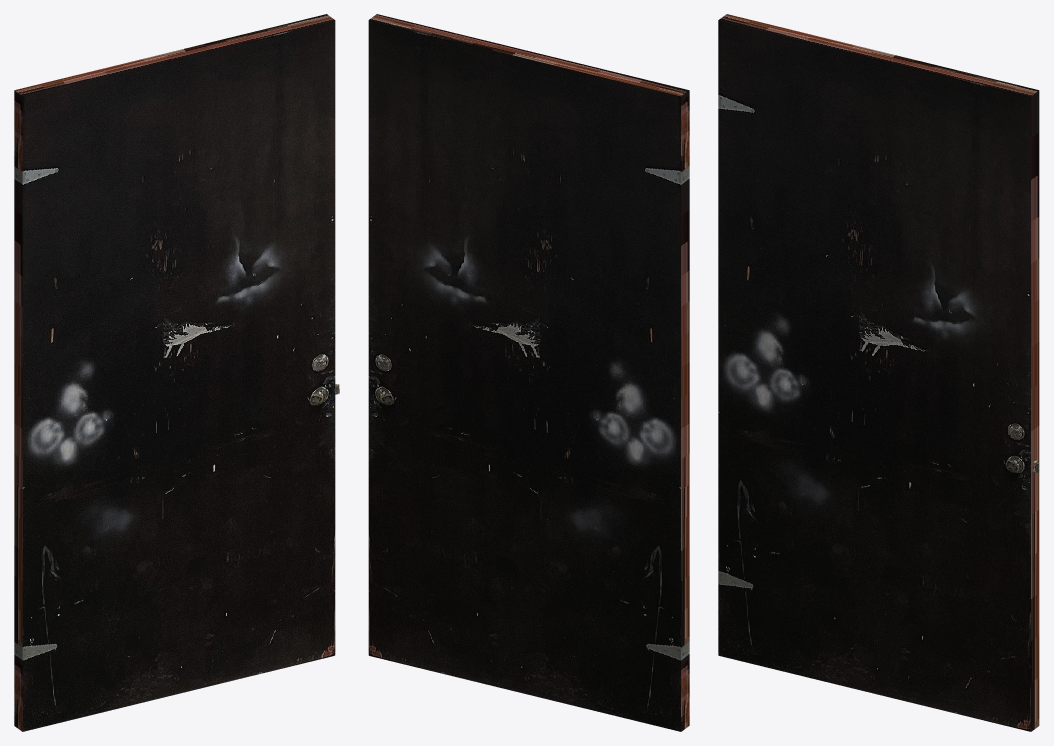
Rendered from door.glb.
3 renders of one model, left to right at view 1: azimuth 30°, elevation 25°; view 2: azimuth 150°, elevation 25°; view 3: azimuth 330°, elevation 25°, orthographic.
Parts seen in each view (by area): view 1: door; view 2: door; view 3: door.
Part boxes in pixels (x1,y1,x2,y2): door: (14, 14, 339, 731); door: (368, 14, 689, 731); door: (718, 14, 1039, 731).
Size of the model in its own units: 35.73 by 68 by 1.62.
1 material, 1 textured.
